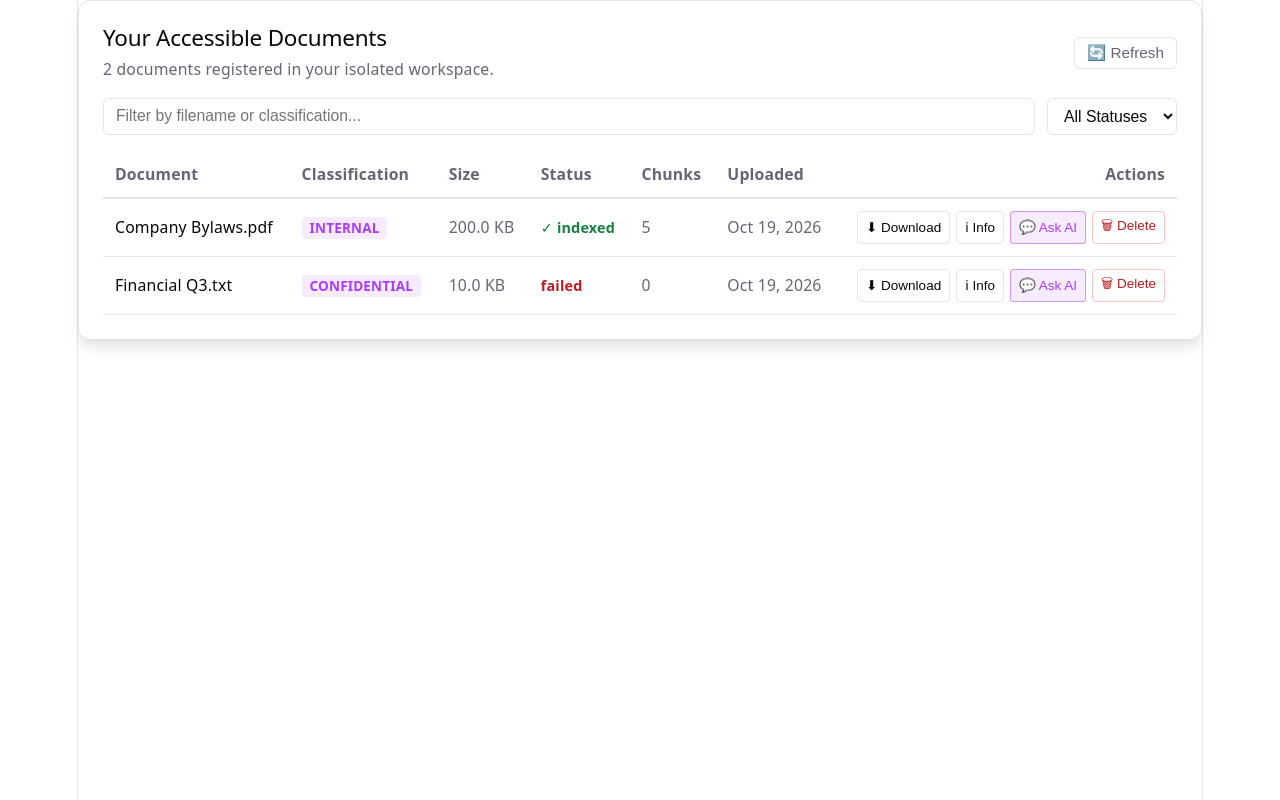
Test: DocumentList Component › filters documents in real-time when typing in search input
Step 1. Type "Bylaws" into the field with test id "document-search-input" → (569, 116), box [103,98,1035,135]
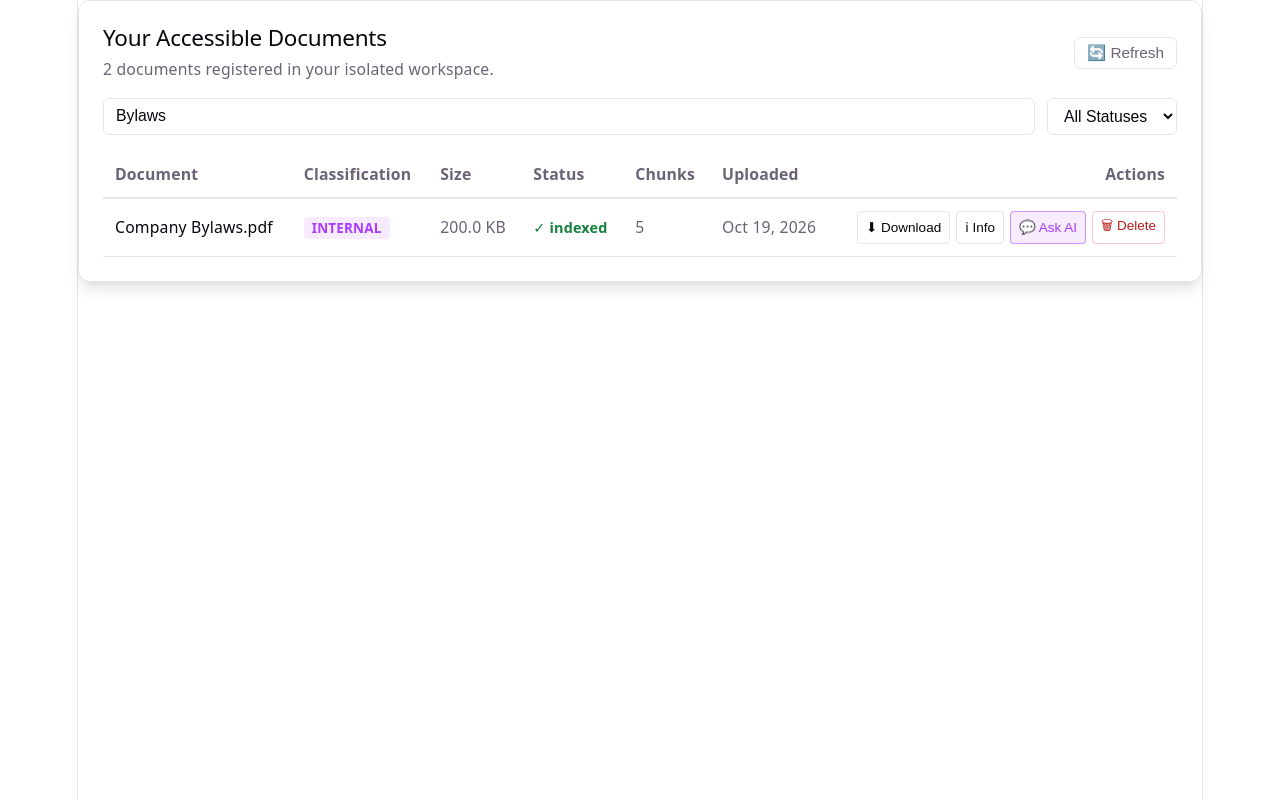
Expected: the text "Company Bylaws.pdf" is shown, [103,198,292,256]
Expected: the text "Financial Q3.txt" is gone
